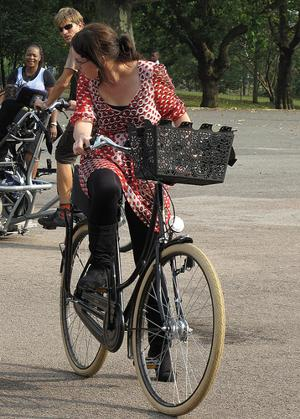person: (72, 21, 194, 388)
